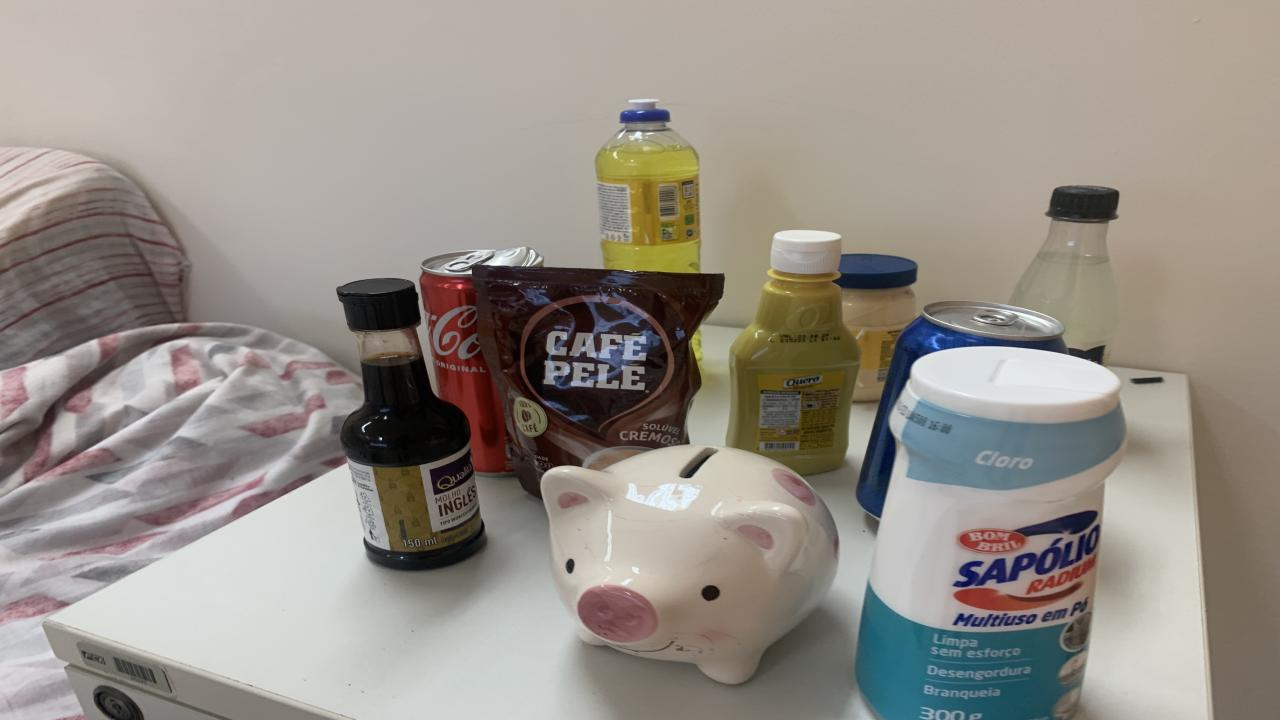Cleaner-Cleanup_Items: (858, 347, 1125, 718)
Coffee-Pantry_Items: (472, 266, 725, 495)
Coke-Drinks: (420, 248, 542, 474)
Detergent-Cleanup_Items: (595, 99, 700, 274)
English_Sauce-Pantry_Items: (338, 279, 485, 570)
Mayonnaise-Pantry_Items: (835, 253, 918, 401)
Mustard-Pantry_Items: (728, 231, 860, 474)
Pig_Safe-Miscellaneous: (540, 444, 838, 684)
Soda-Drinks: (1010, 186, 1120, 364)
Tonic-Drinks: (858, 302, 1068, 516)
